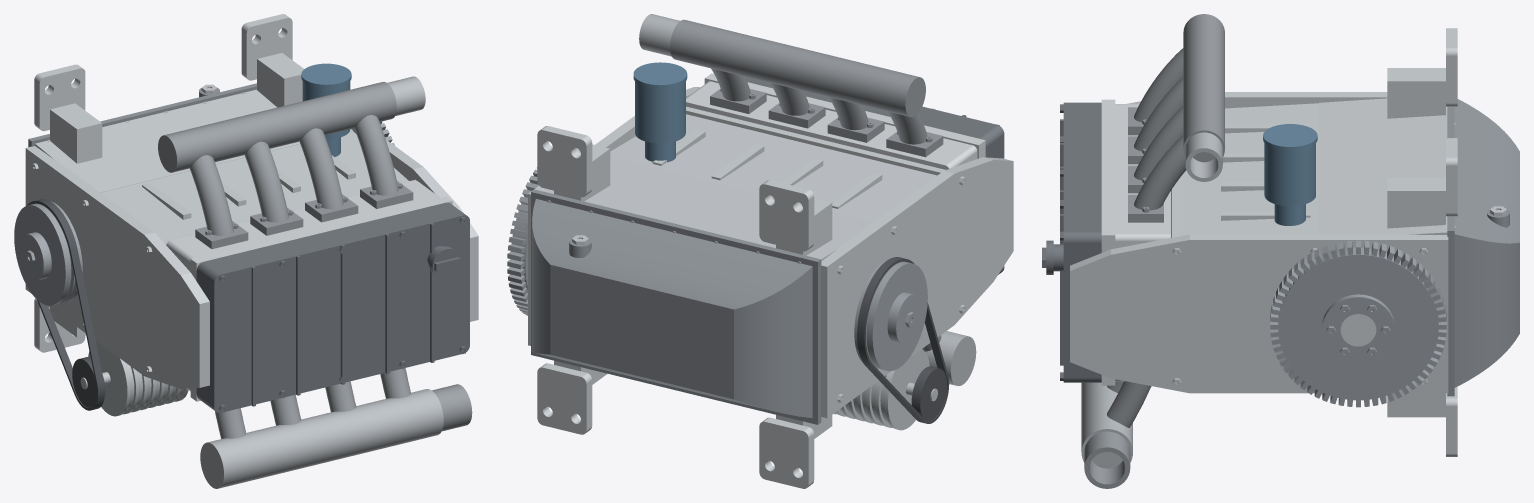
Rendered from inline_four_engine.glb.
The picture shows the model from 3 angles, left to right: view 1: azimuth 30°, elevation 25°; view 2: azimuth 150°, elevation 25°; view 3: azimuth 270°, elevation 25°; orthographic projection. The views are drawn at different scales.
Visible parts, largest first — view 1: 145_Hollow twin cam valve cover, 158_Closed timing or rear end housing -1, 000_Cylinder block and hollow crankcase, 208_Intake plenum closed-end barrel, 226_Exhaust collector closed-end barrel, 063_Ported sixteen valve cylinder head, 189_Engine mounting ear -181 1, 191_Engine mounting ear 181 1, 180_Grooved crank accessory pulley, 183_Finned alternator closed body, 186_Accessory drive tangent belt, 215_Curved exhaust runner 2 (+21 smaller); view 2: 005_Hollow cast oil sump, 000_Cylinder block and hollow crankcase, 158_Closed timing or rear end housing -1, 226_Exhaust collector closed-end barrel, 063_Ported sixteen valve cylinder head, 191_Engine mounting ear 181 1, 189_Engine mounting ear -181 1, 180_Grooved crank accessory pulley, 188_Engine mounting ear -181 -1, 190_Engine mounting ear 181 -1, 183_Finned alternator closed body, 229_Closed oil filter canister (+18 smaller); view 3: 165_Closed timing or rear end housing 1, 000_Cylinder block and hollow crankcase, 172_Flywheel disc and starter ring teeth, 005_Hollow cast oil sump, 145_Hollow twin cam valve cover, 063_Ported sixteen valve cylinder head, 226_Exhaust collector closed-end barrel, 191_Engine mounting ear 181 1, 189_Engine mounting ear -181 1, 229_Closed oil filter canister, 173_Flywheel central mounting flange, 208_Intake plenum closed-end barrel (+13 smaller).
Boxes of the visible parts, box(x1,y1,x2,y2) form: 145_Hollow twin cam valve cover: box(196, 202, 469, 412); 158_Closed timing or rear end housing -1: box(25, 146, 209, 388); 000_Cylinder block and hollow crankcase: box(35, 89, 415, 244); 208_Intake plenum closed-end barrel: box(200, 389, 443, 488); 226_Exhaust collector closed-end barrel: box(158, 82, 396, 172); 063_Ported sixteen valve cylinder head: box(166, 180, 452, 401); 189_Engine mounting ear -181 1: box(34, 64, 102, 163); 191_Engine mounting ear 181 1: box(241, 14, 304, 107); 180_Grooved crank accessory pulley: box(14, 201, 82, 305); 183_Finned alternator closed body: box(88, 341, 188, 416); 186_Accessory drive tangent belt: box(26, 199, 104, 410); 215_Curved exhaust runner 2: box(244, 141, 288, 222); 005_Hollow cast oil sump: box(531, 189, 821, 424); 000_Cylinder block and hollow crankcase: box(542, 106, 945, 261); 158_Closed timing or rear end housing -1: box(821, 157, 1013, 418); 226_Exhaust collector closed-end barrel: box(670, 19, 925, 117); 063_Ported sixteen valve cylinder head: box(686, 73, 985, 169); 191_Engine mounting ear 181 1: box(537, 126, 610, 201); 189_Engine mounting ear -181 1: box(759, 180, 832, 255); 180_Grooved crank accessory pulley: box(854, 259, 927, 371); 188_Engine mounting ear -181 -1: box(759, 415, 832, 488); 190_Engine mounting ear 181 -1: box(537, 360, 607, 434); 183_Finned alternator closed body: box(833, 349, 929, 430); 229_Closed oil filter canister: box(635, 63, 685, 143); 165_Closed timing or rear end housing 1: box(1070, 234, 1448, 393); 000_Cylinder block and hollow crankcase: box(1172, 98, 1447, 237); 172_Flywheel disc and starter ring teeth: box(1270, 240, 1446, 407); 005_Hollow cast oil sump: box(1447, 99, 1519, 396); 145_Hollow twin cam valve cover: box(1060, 102, 1101, 382); 063_Ported sixteen valve cylinder head: box(1101, 99, 1170, 385); 226_Exhaust collector closed-end barrel: box(1183, 14, 1224, 162); 191_Engine mounting ear 181 1: box(1387, 138, 1457, 228); 189_Engine mounting ear -181 1: box(1387, 28, 1457, 118); 229_Closed oil filter canister: box(1264, 124, 1315, 206); 173_Flywheel central mounting flange: box(1322, 294, 1394, 363); 208_Intake plenum closed-end barrel: box(1081, 382, 1132, 468).
Bounding box in the file's own units: 0.604 × 0.531 × 0.666.
